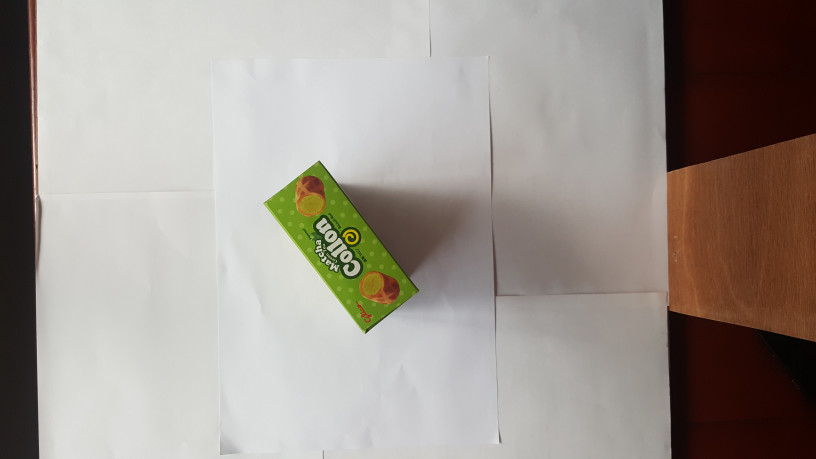collon-matcha: (260, 158, 420, 334)
